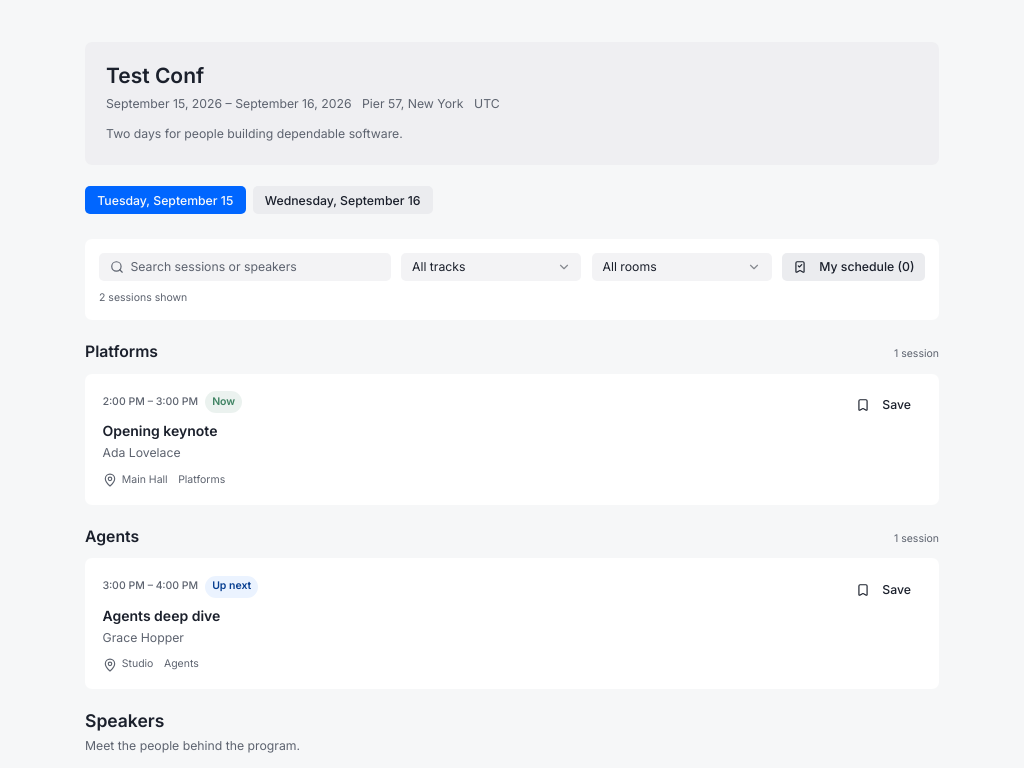
Scenario: attendee site route › resets day, search, and schedule filters when navigating between valid events
In the field named "Search sessions and speakers": [245, 267] box [99,253,391,281], type "Closing"
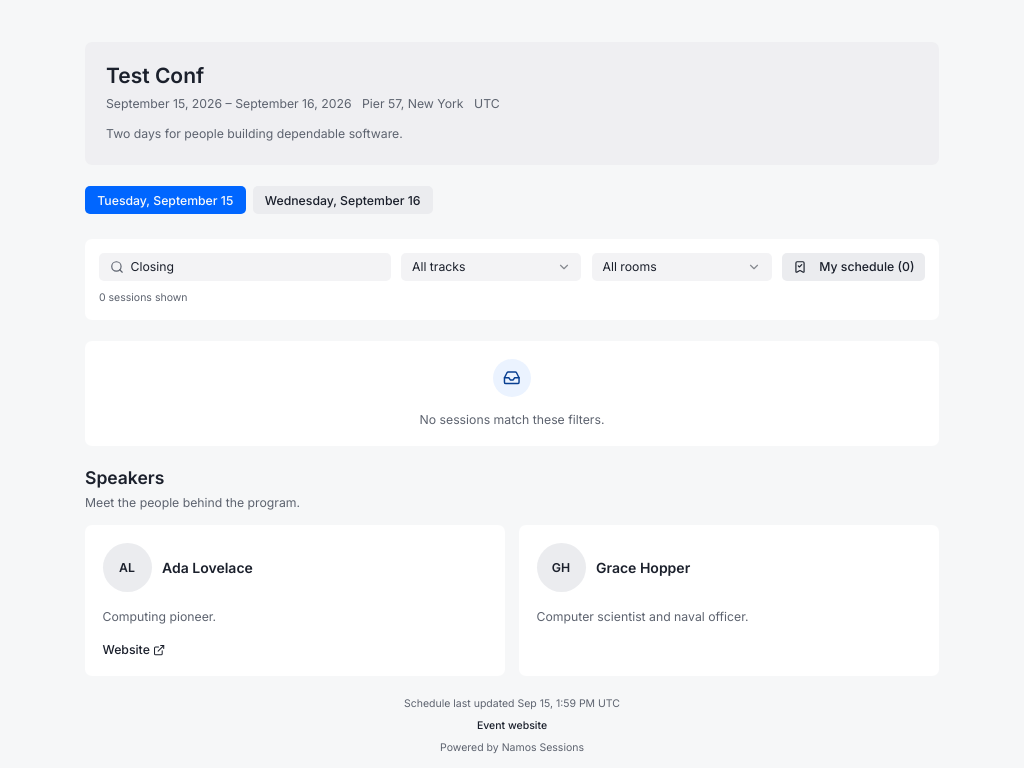
Click the button "Wednesday, September 16": [343, 200] box [252,186,433,214]
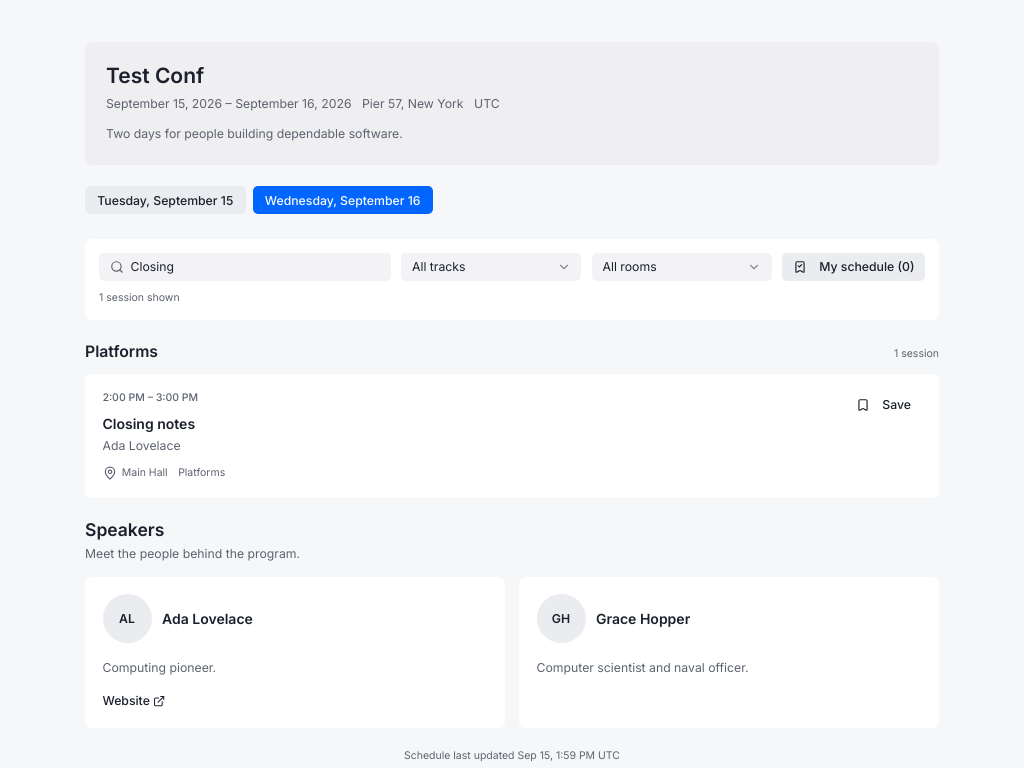
Click the button "My schedule (0)": [854, 267] box [782,253,925,281]
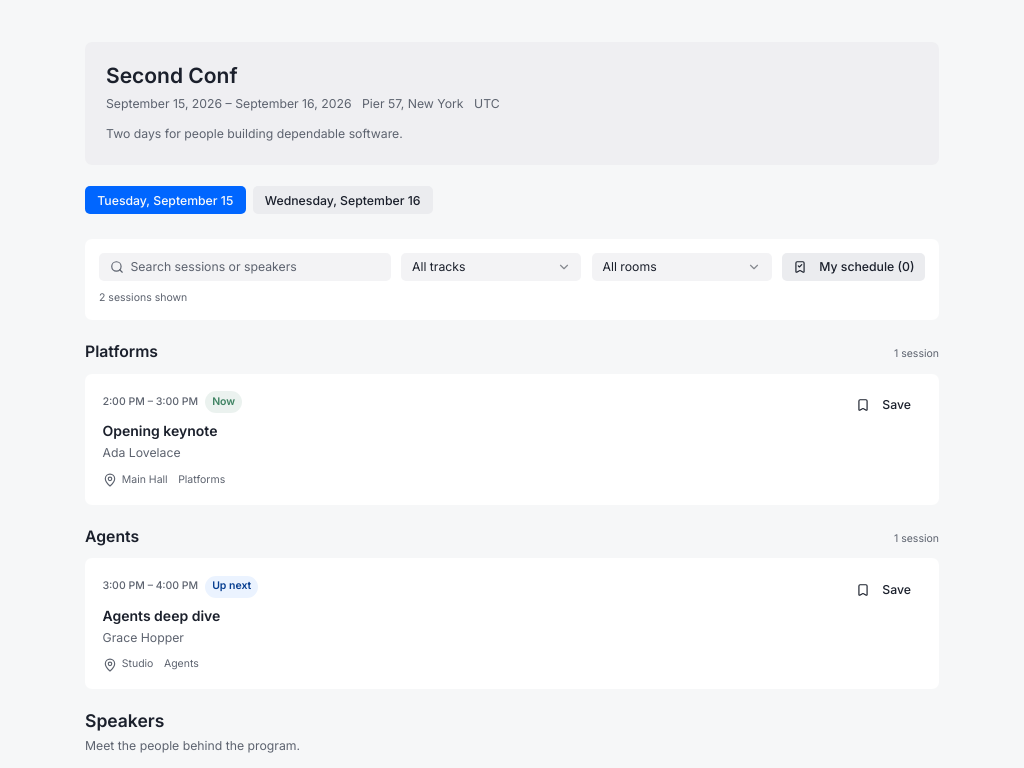
Now the heading "Second Conf" is shown, box [106,63,238,88]
Now the field named "Search sessions and speakers" is empty, box [99,253,391,281]
Now the text "Opening keynote" is shown, box [102,422,218,439]
